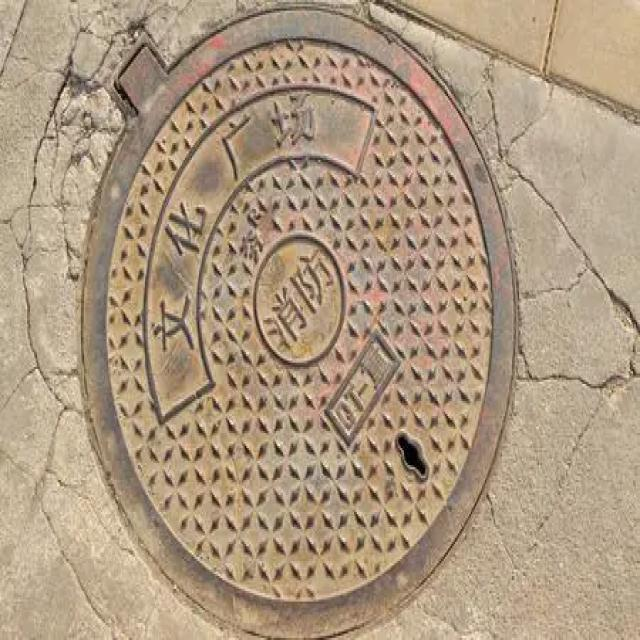manhole: (84, 8, 515, 638)
